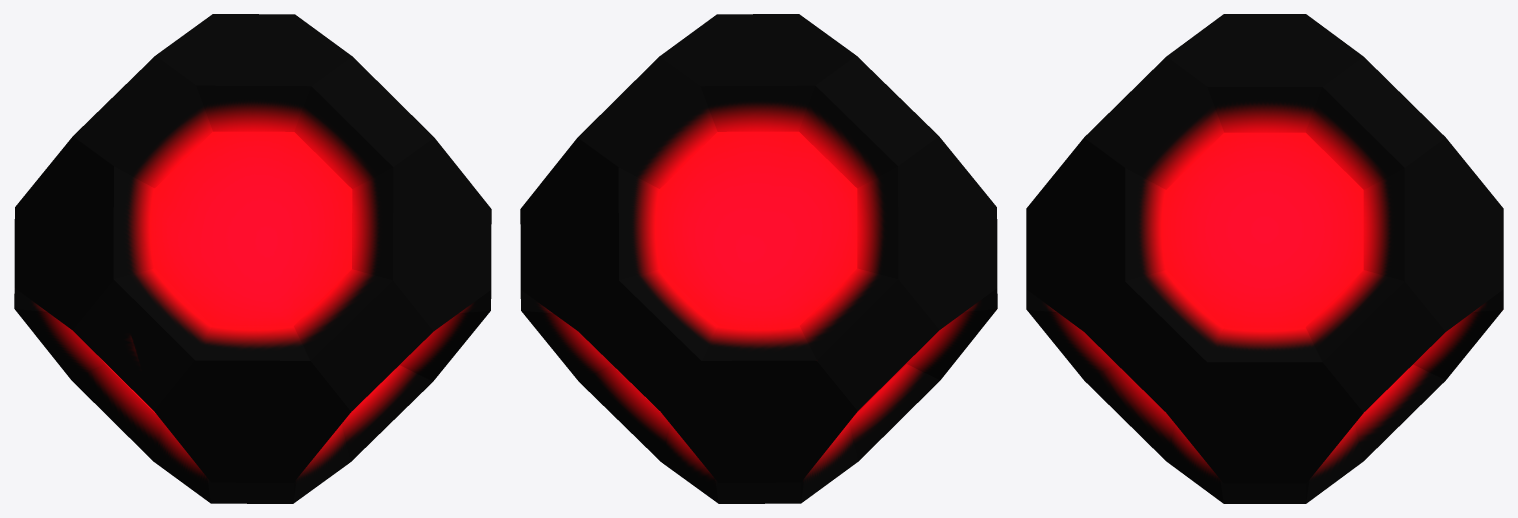
File: Standard.fbx
3 views of the same model, side by side, from view 1: azimuth 30°, elevation 25°; view 2: azimuth 150°, elevation 25°; view 3: azimuth 270°, elevation 25° (orthographic).
Parts seen in each view (by area): view 1: Standard_bake; view 2: Standard_bake; view 3: Standard_bake.
Boxes of the visible parts, bbox=[...] form: Standard_bake: bbox=[14, 14, 491, 503]; Standard_bake: bbox=[520, 14, 997, 503]; Standard_bake: bbox=[1026, 14, 1503, 503].
Size of the model in its own units: 0.0537 by 0.0529 by 0.0507.
Materials: 1 (1 with a texture image).
